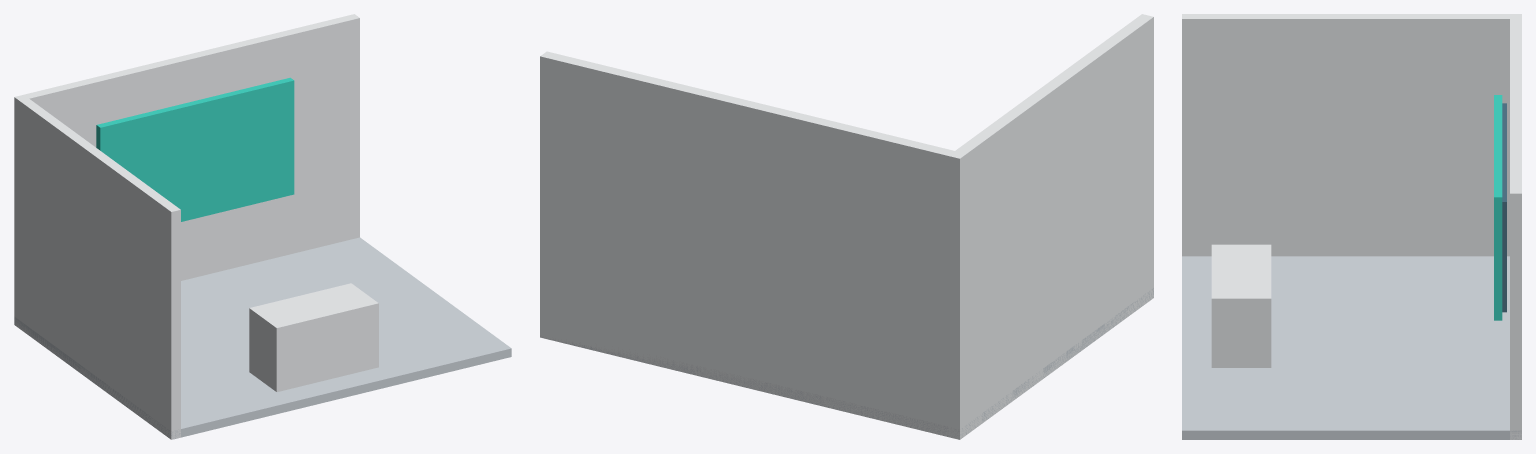
3 renders of one model, left to right at view 1: azimuth 30°, elevation 25°; view 2: azimuth 150°, elevation 25°; view 3: azimuth 270°, elevation 25°, orthographic. The views are drawn at different scales.
Visible parts, largest first — view 1: Exhibition Booth Concept; view 2: Exhibition Booth Concept; view 3: Exhibition Booth Concept.
Boxes of the visible parts, x1,y1,x2,y2 form: Exhibition Booth Concept: [14, 14, 511, 439]; Exhibition Booth Concept: [540, 14, 1153, 439]; Exhibition Booth Concept: [1182, 14, 1521, 439].
Size of the model in its own units: 5 by 3.2 by 4.
